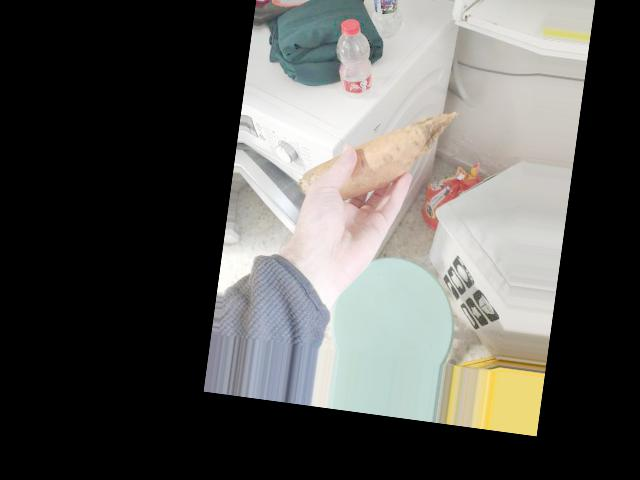sweet_potato: (302, 129, 404, 221)
